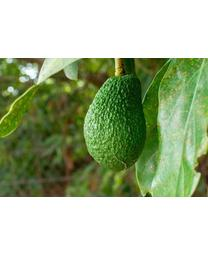avocado: (82, 74, 148, 171)
